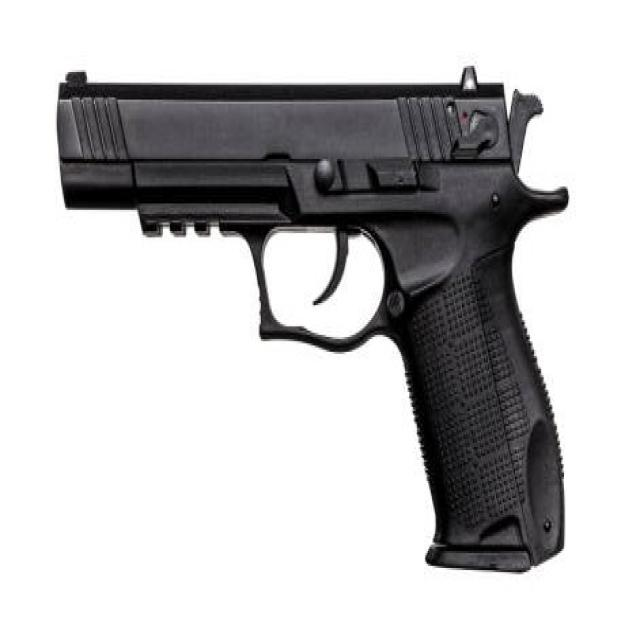pistol: (49, 60, 575, 580)
